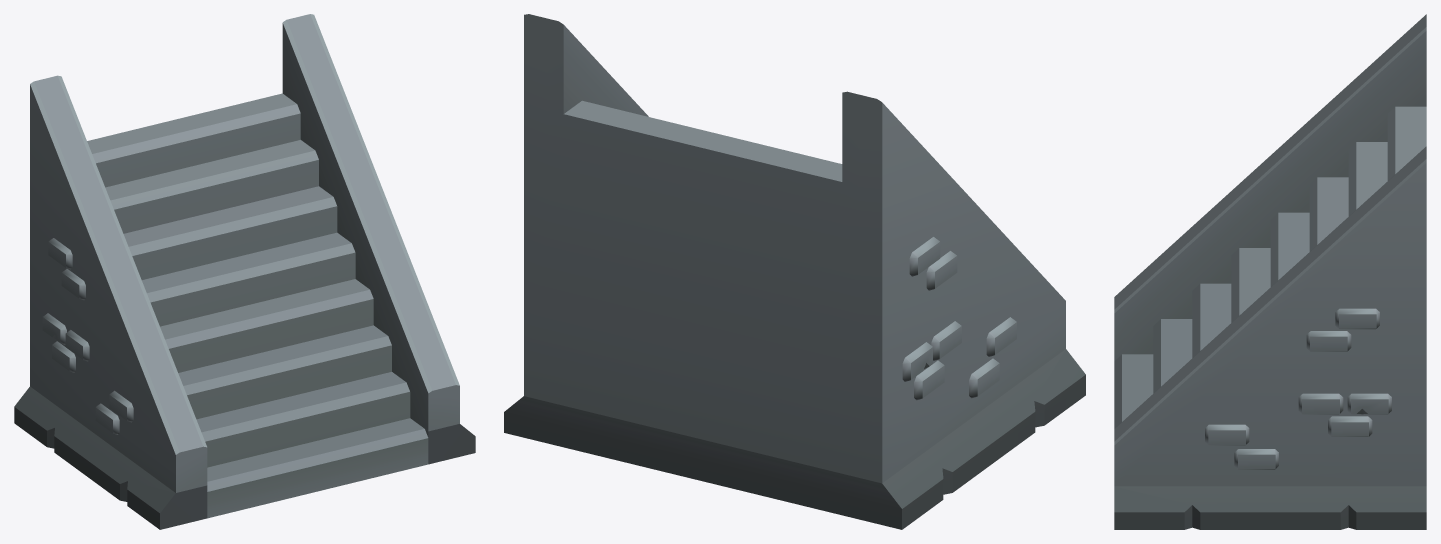
File: stairs.glb
3 renders of one model, left to right at view 1: azimuth 30°, elevation 25°; view 2: azimuth 150°, elevation 25°; view 3: azimuth 270°, elevation 25°, orthographic. The views are drawn at different scales.
Visible parts, largest first — view 1: stairs; view 2: stairs; view 3: stairs.
Boxes of the visible parts, x1,y1,x2,y2 form: stairs: (14, 14, 475, 529); stairs: (504, 14, 1085, 529); stairs: (1114, 14, 1426, 529).
Size of the model in its own units: 5 by 5.1 by 4.
1 material, 1 textured.
